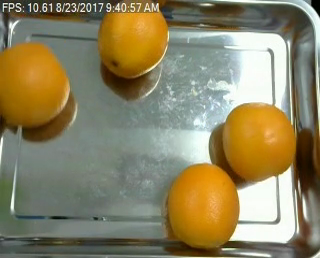Orange: (169, 164, 241, 250), (1, 41, 71, 129), (222, 102, 295, 184), (97, 1, 168, 79)
